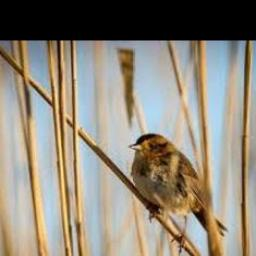Sparrow: (129, 133, 228, 253)
